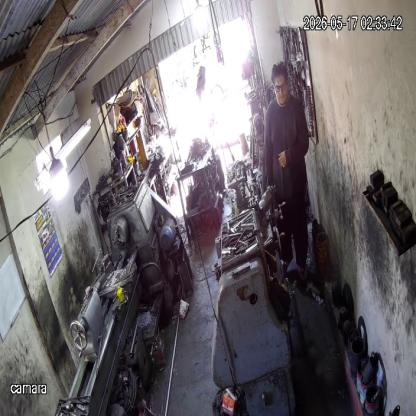lentes: (273, 81, 288, 96)
